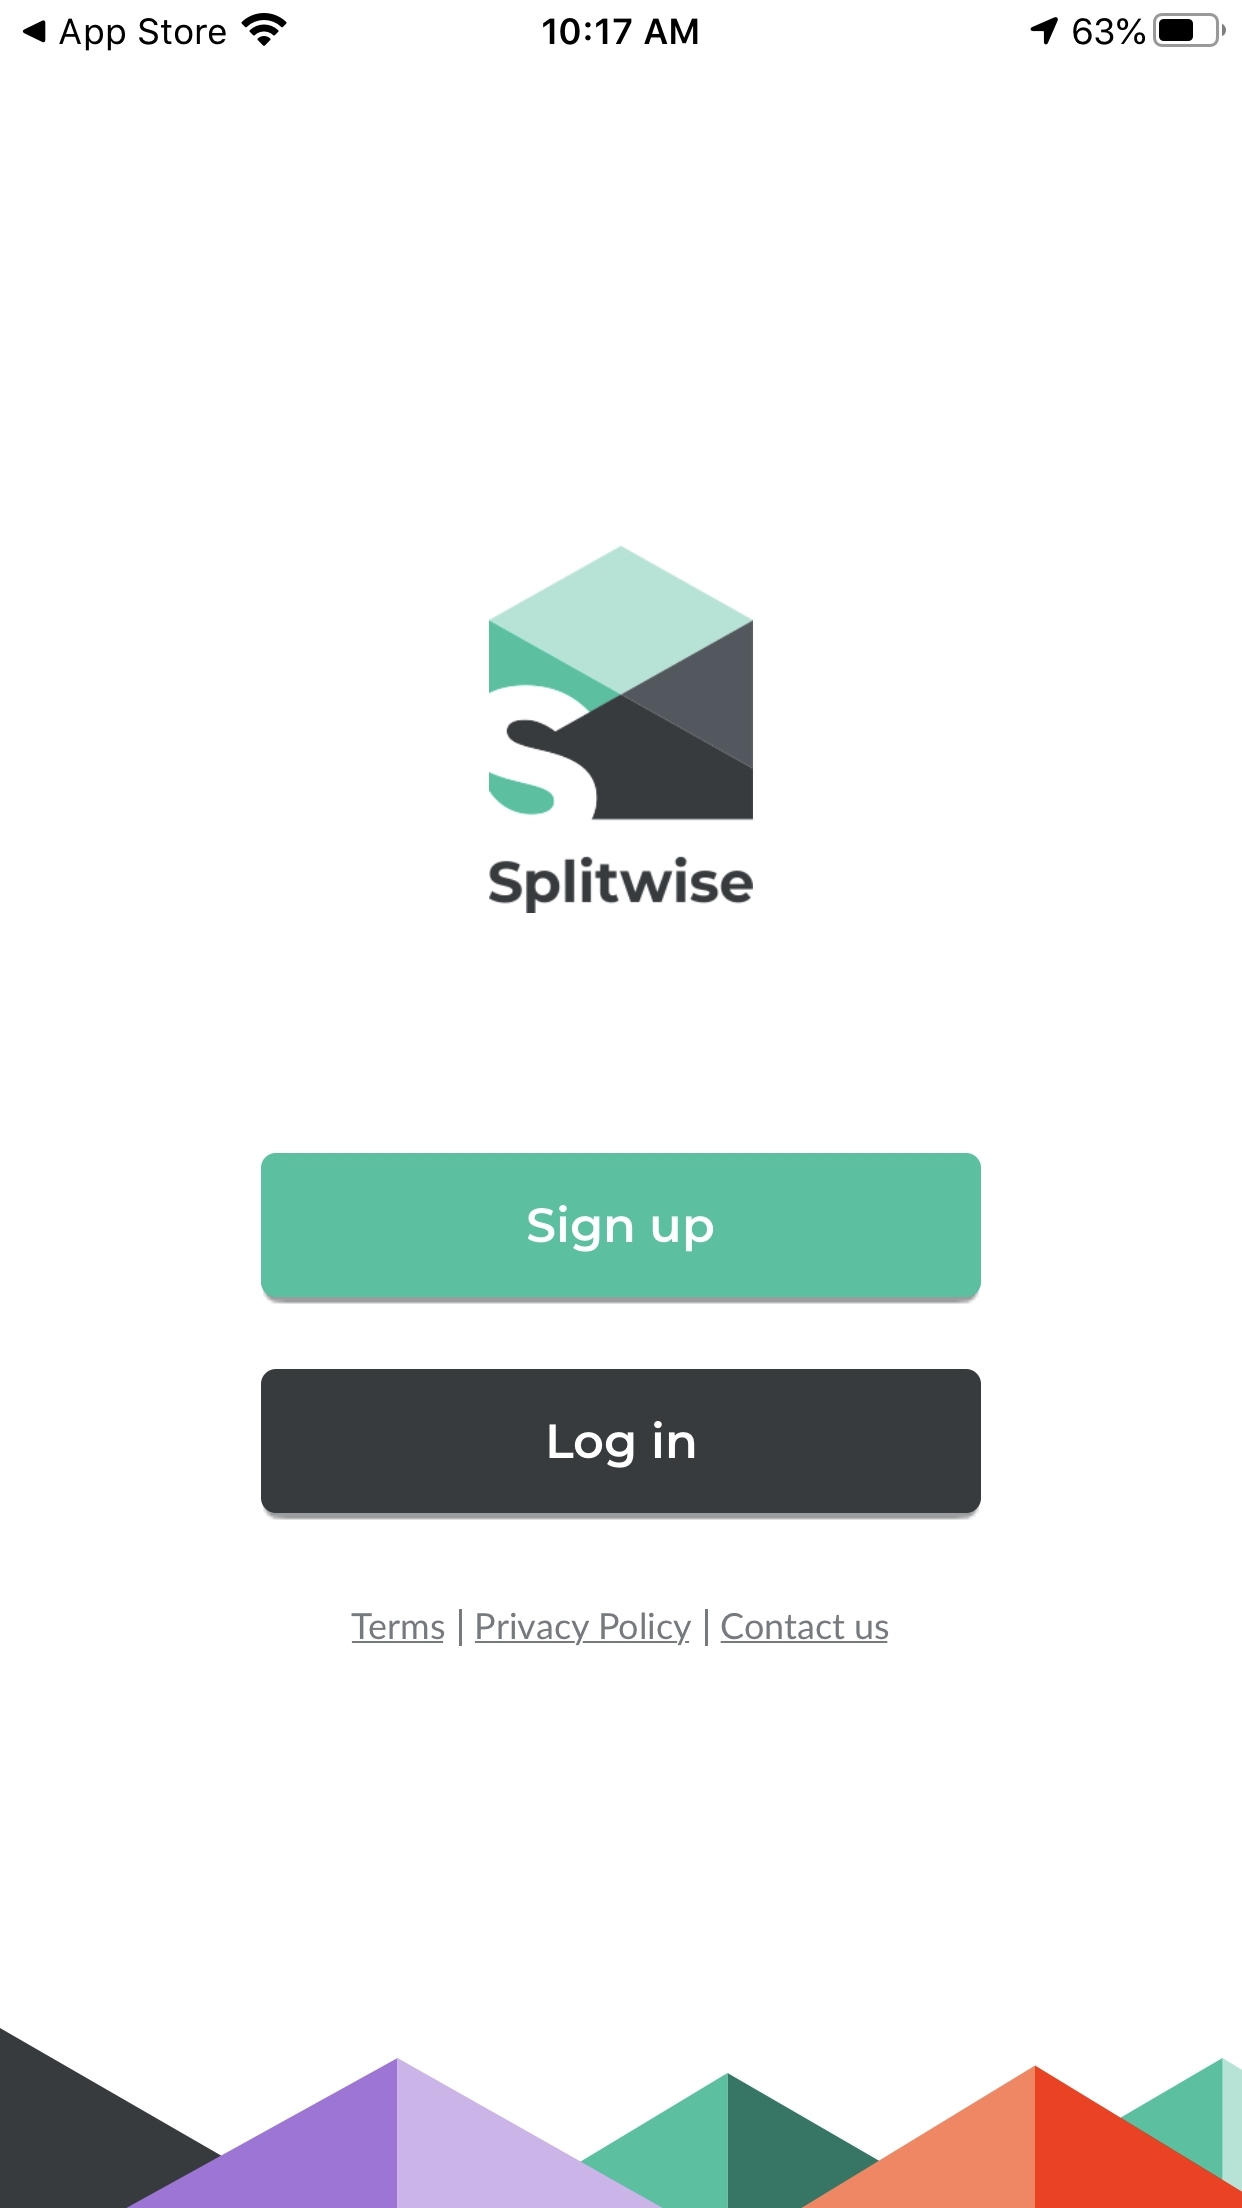Image: (2, 2028, 1240, 2208), (488, 546, 754, 820)
Text: (488, 855, 754, 913), (475, 1612, 692, 1645), (720, 1612, 889, 1642), (350, 1614, 444, 1642)
TextButton: (259, 1153, 983, 1304), (261, 1369, 981, 1520)
UpperTaskBar: (2, 2, 1242, 49)
